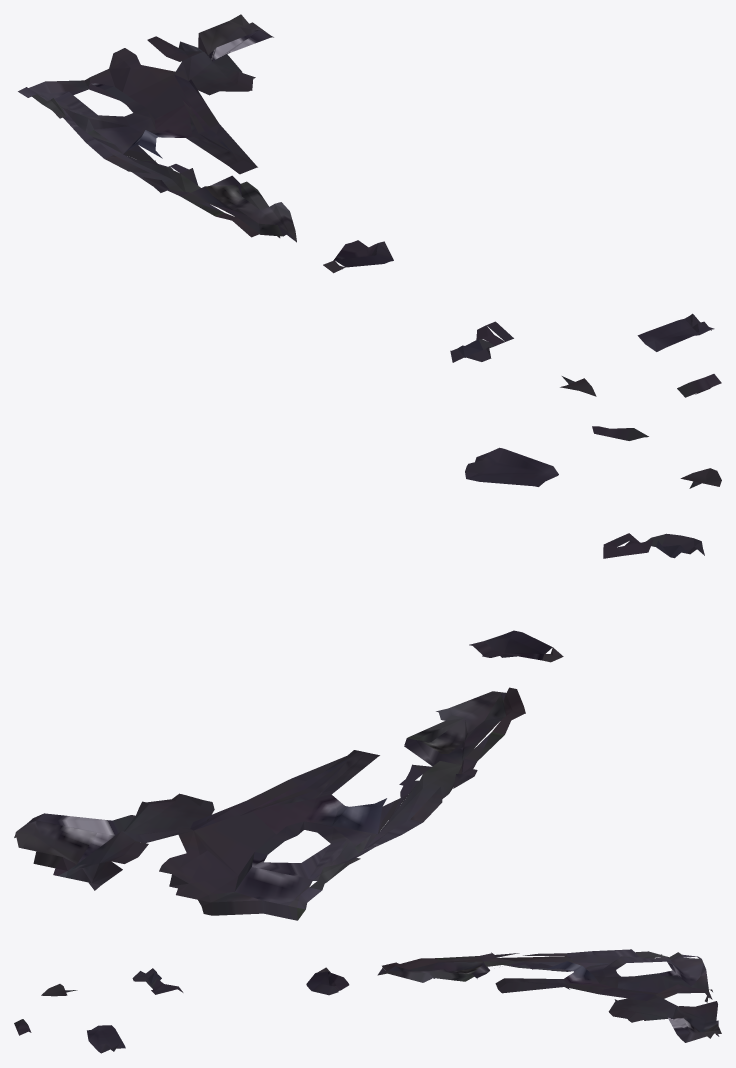
3 views of the same model, one above another, from view 1: azimuth 30°, elevation 25°; view 2: azimuth 150°, elevation 25°; view 3: azimuth 270°, elevation 25° (orthographic). The views are drawn at different scales.
Visible parts, largest first — view 1: Mesh_0; view 2: Mesh_0; view 3: Mesh_0.
Boxes of the visible parts, left/top/right/bottom form: Mesh_0: left=18, top=14, right=721, bottom=397; Mesh_0: left=14, top=426, right=721, bottom=920; Mesh_0: left=14, top=949, right=721, bottom=1053.
Size of the model in its own units: 12.75 by 1.55 by 38.69.
Materials: 1 (1 with a texture image).
